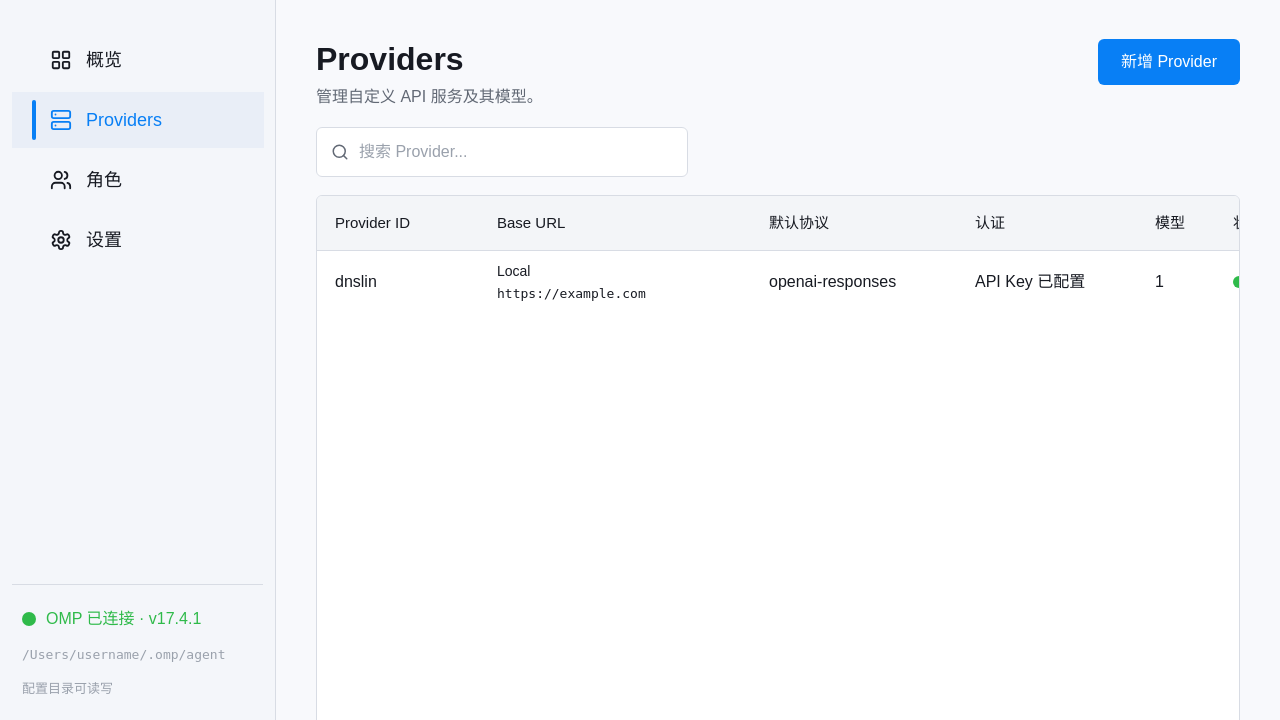
React page seam › routes server validation error provider-base-url-invalid to its visible field
The width and height of the screenshot is (1280, 720).
Click the button "新增 Provider": (1169, 62) 1098,39 -> 1240,85
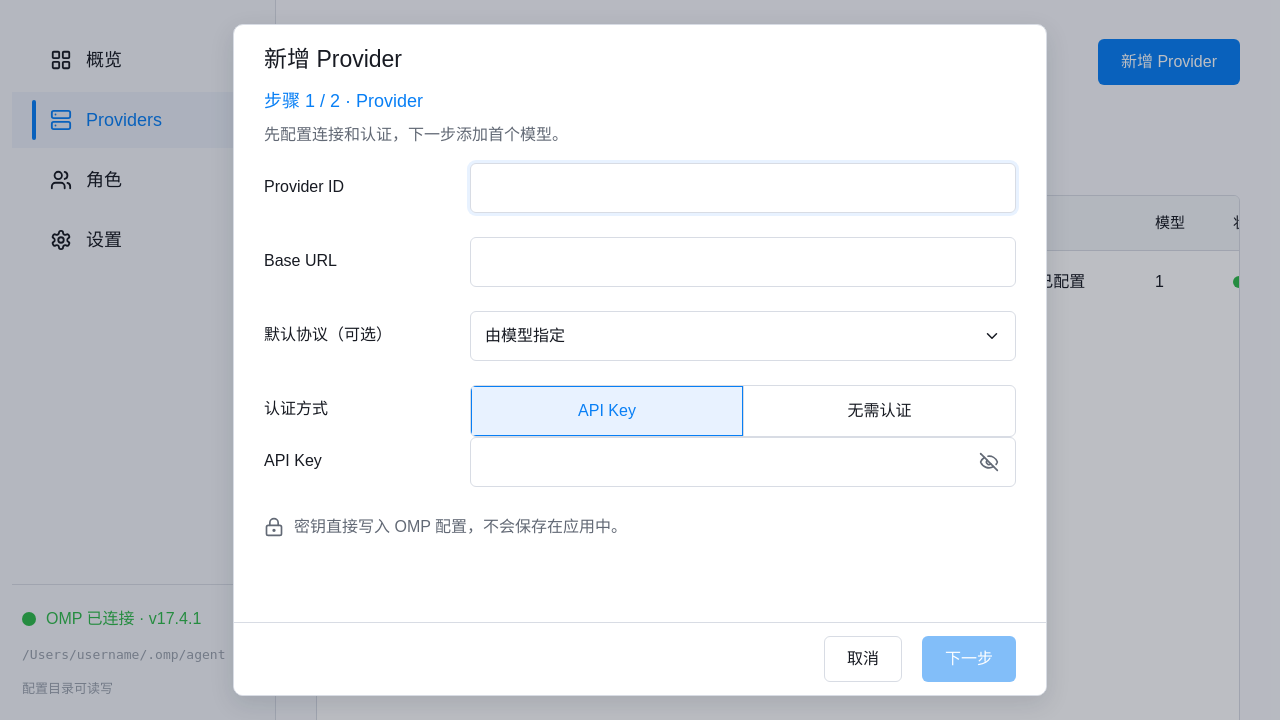
In the field labelled "Provider ID": (743, 188) 470,163 -> 1016,213, type "new-provider"
In the field labelled "Base URL": (743, 262) 470,237 -> 1016,287, type "https://new-provider.example/v1"
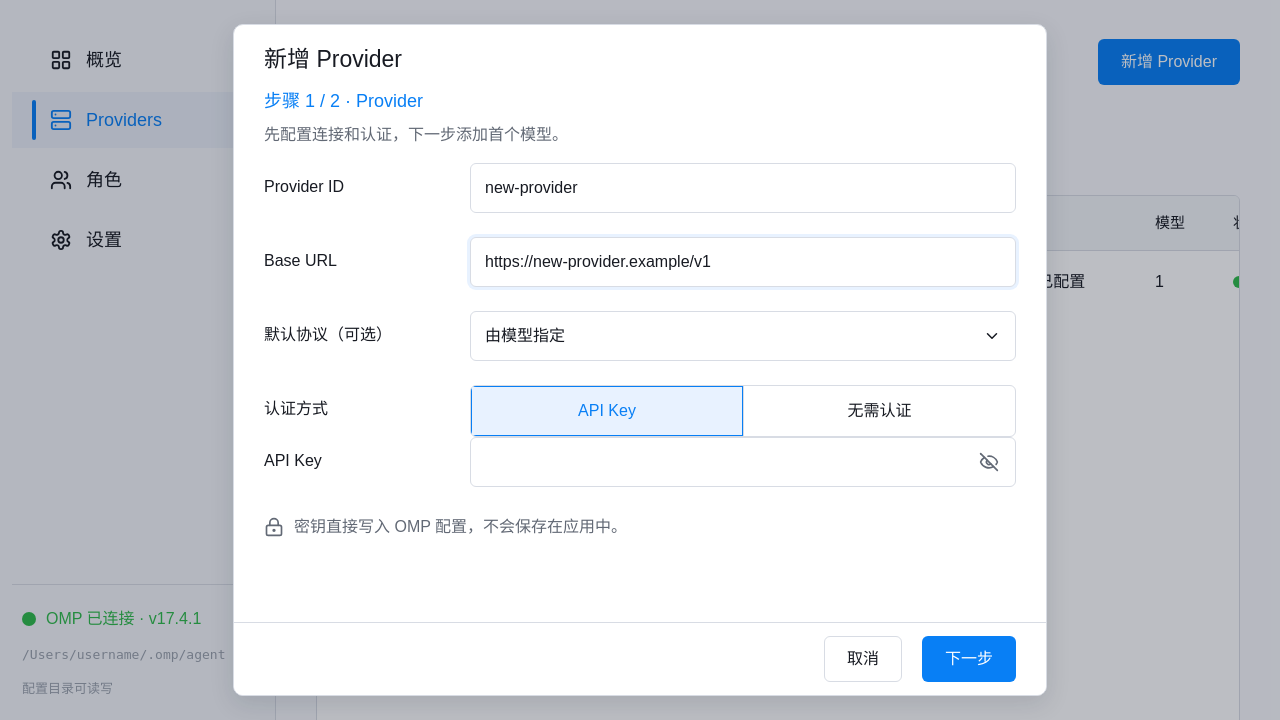
Click the button "下一步": (969, 659) 922,636 -> 1016,682
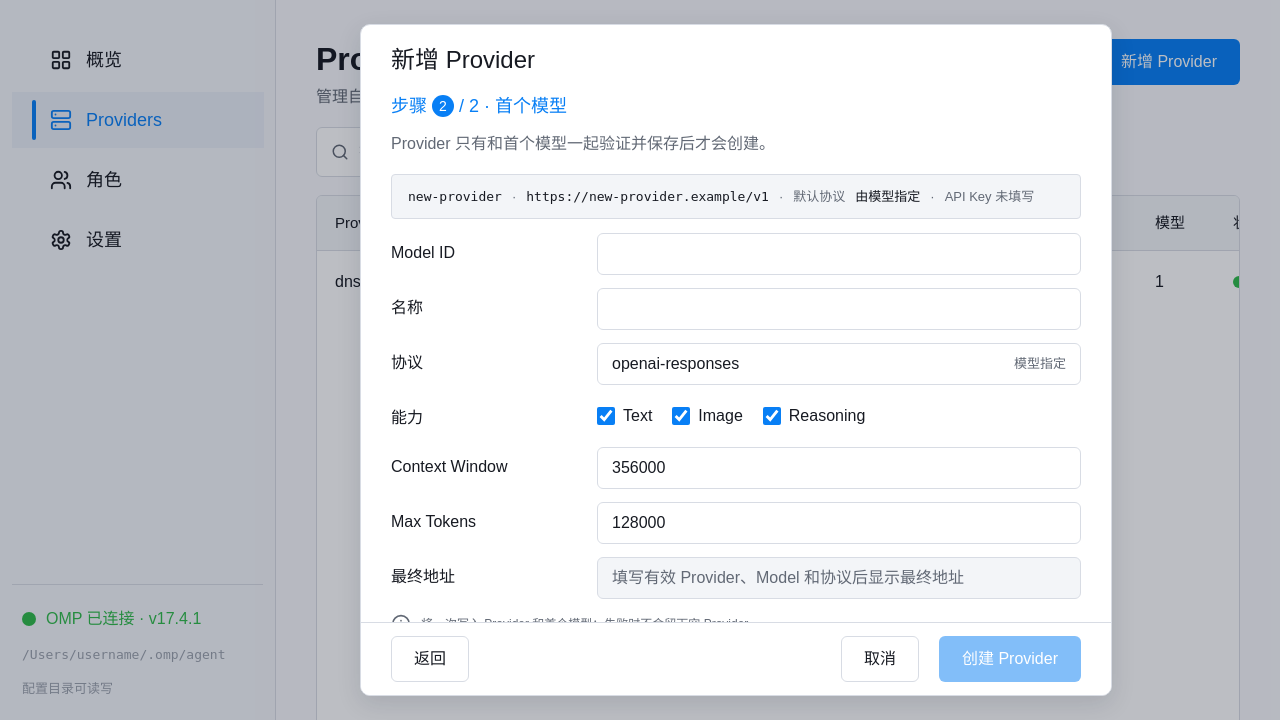
In the field labelled "Model ID": (839, 254) 597,233 -> 1081,275, type "new-model"
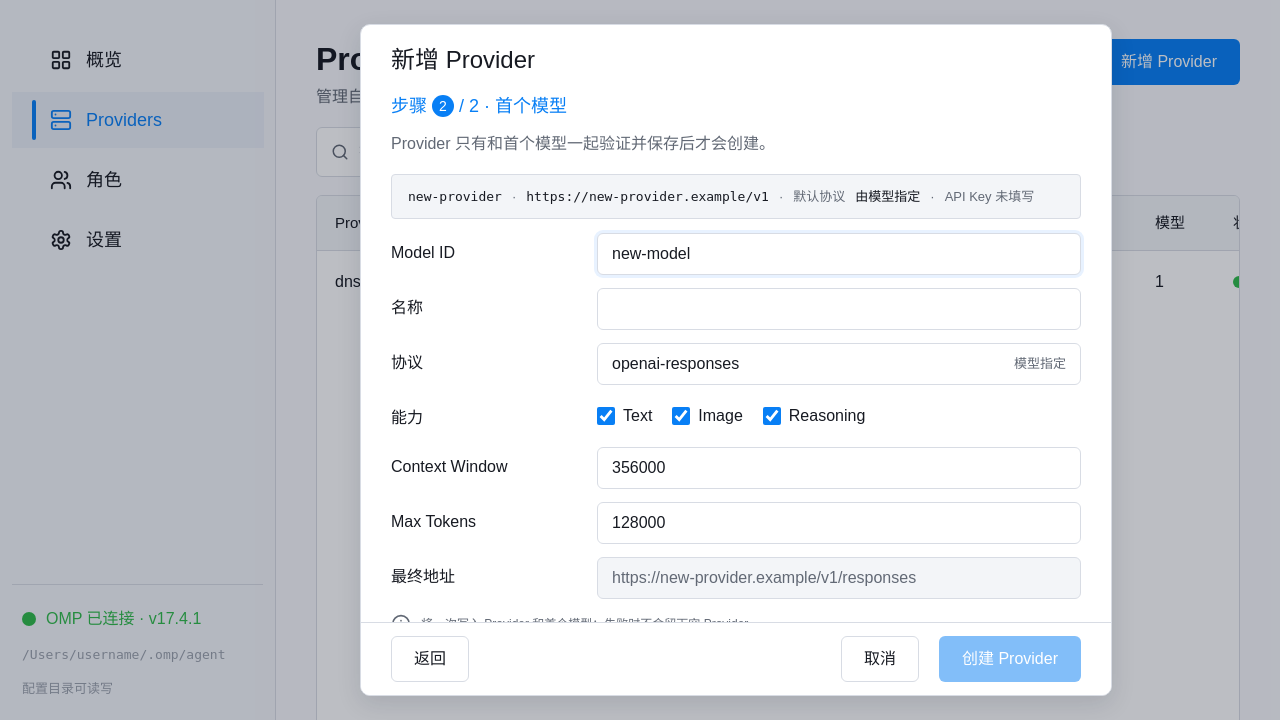
In the field labelled "名称": (839, 309) 597,288 -> 1081,330, type "New Model"
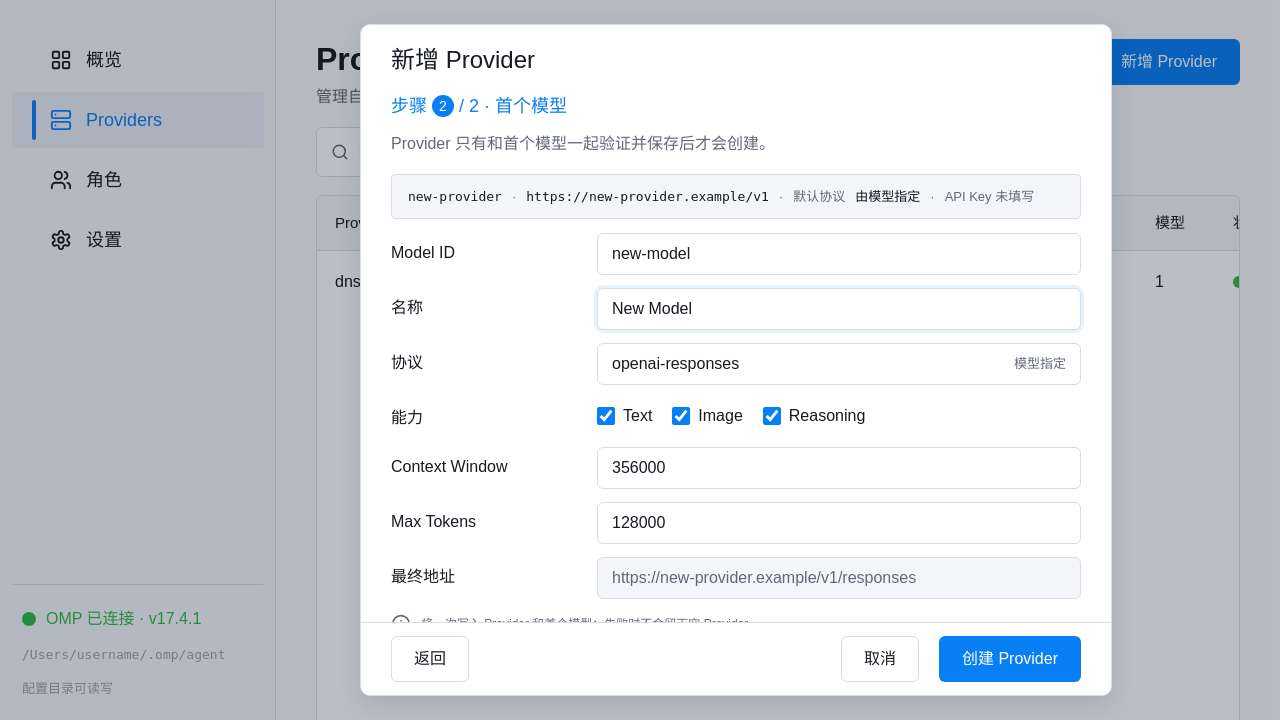
Click the button "创建 Provider": (1010, 659) 939,636 -> 1081,682
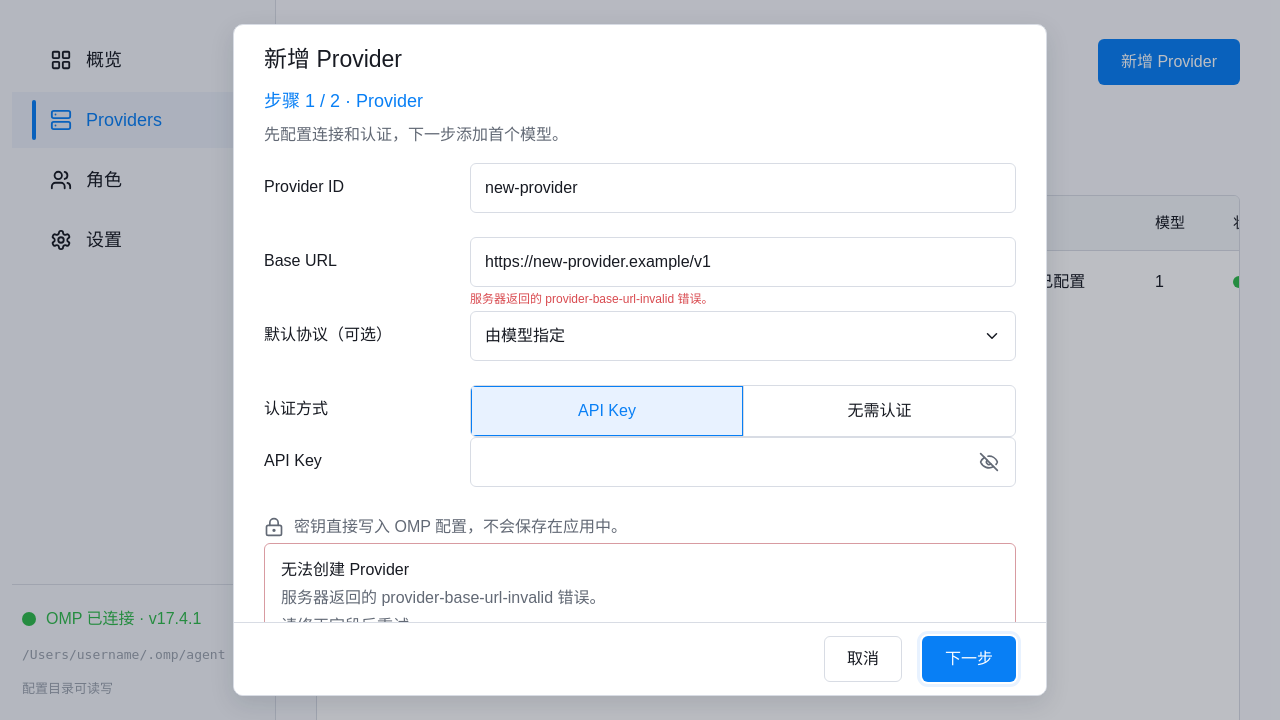
Expected: the text "步骤 1 / 2 · Provider" is shown, 264,91 -> 423,111
Expected: the element showing "Base URL 服务器返回的 provider-base-url-invalid 错误。" is shown, 264,237 -> 1016,311
